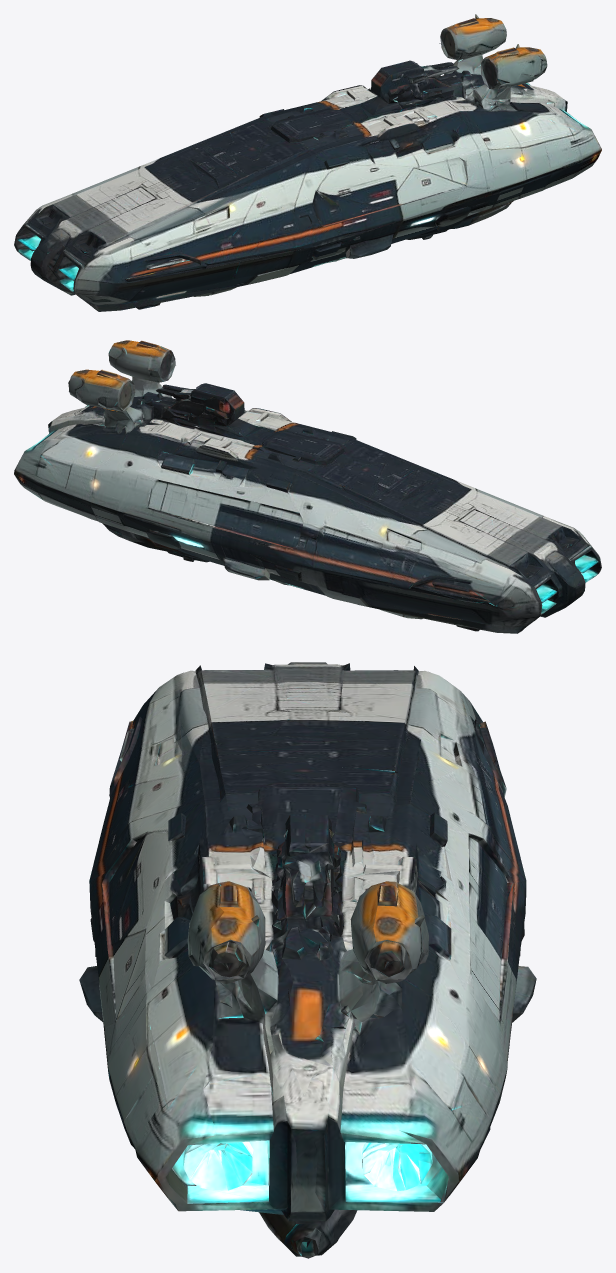
Rendered from vessel-prospector.glb.
3 renders of one model, top to bottom at view 1: azimuth 30°, elevation 25°; view 2: azimuth 150°, elevation 25°; view 3: azimuth 270°, elevation 25°, orthographic. The views are drawn at different scales.
Bounding box in the file's own units: 1.9 × 0.6504 × 0.71.
1 material, 1 textured.
